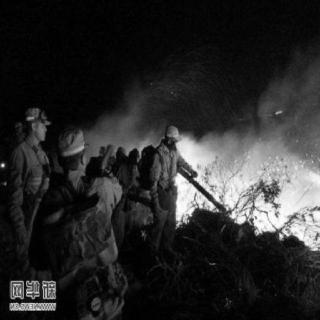Smoke: (184, 138, 212, 160)
other: (10, 103, 196, 310)
